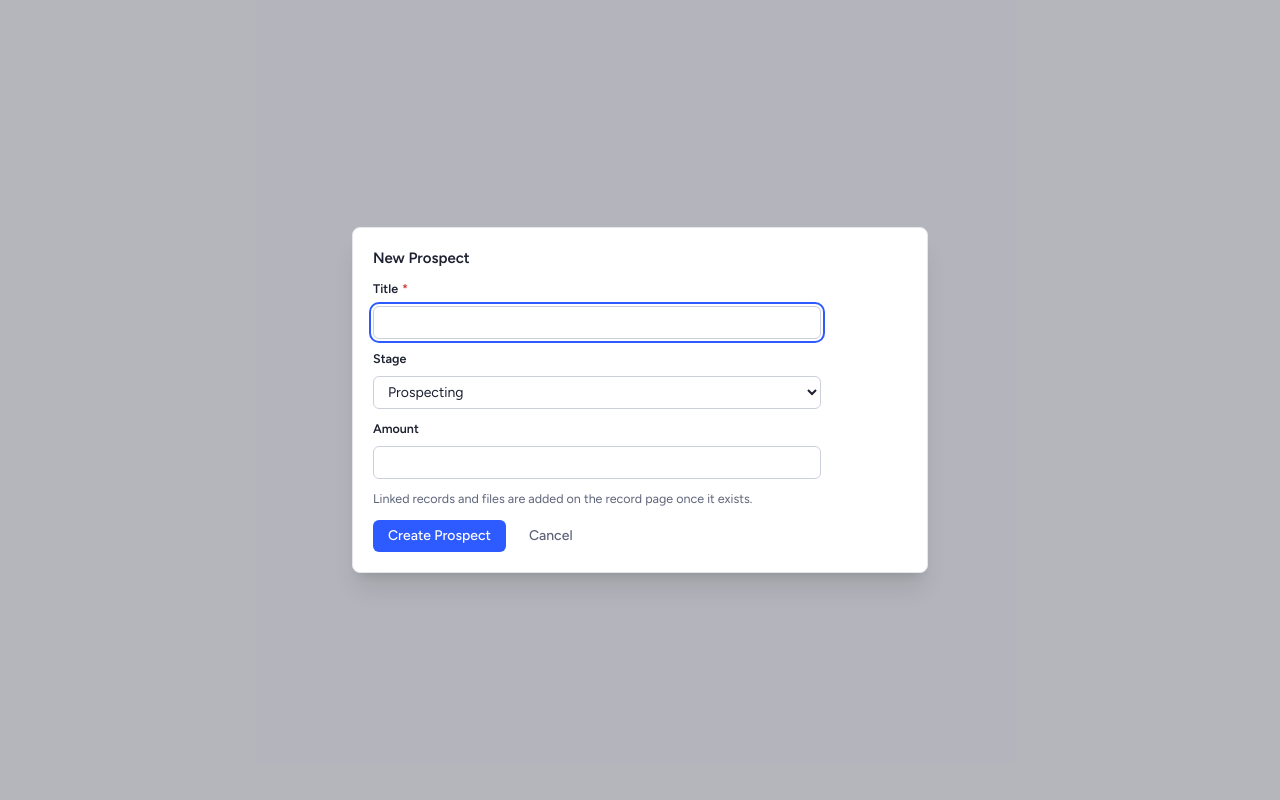
Test: NewRecordDialog: the required-field pre-flight › clears the complaint once the field is filled and the write goes out
Click the button "Create Prospect". click: point(439, 536)
box: [373,520,506,552]
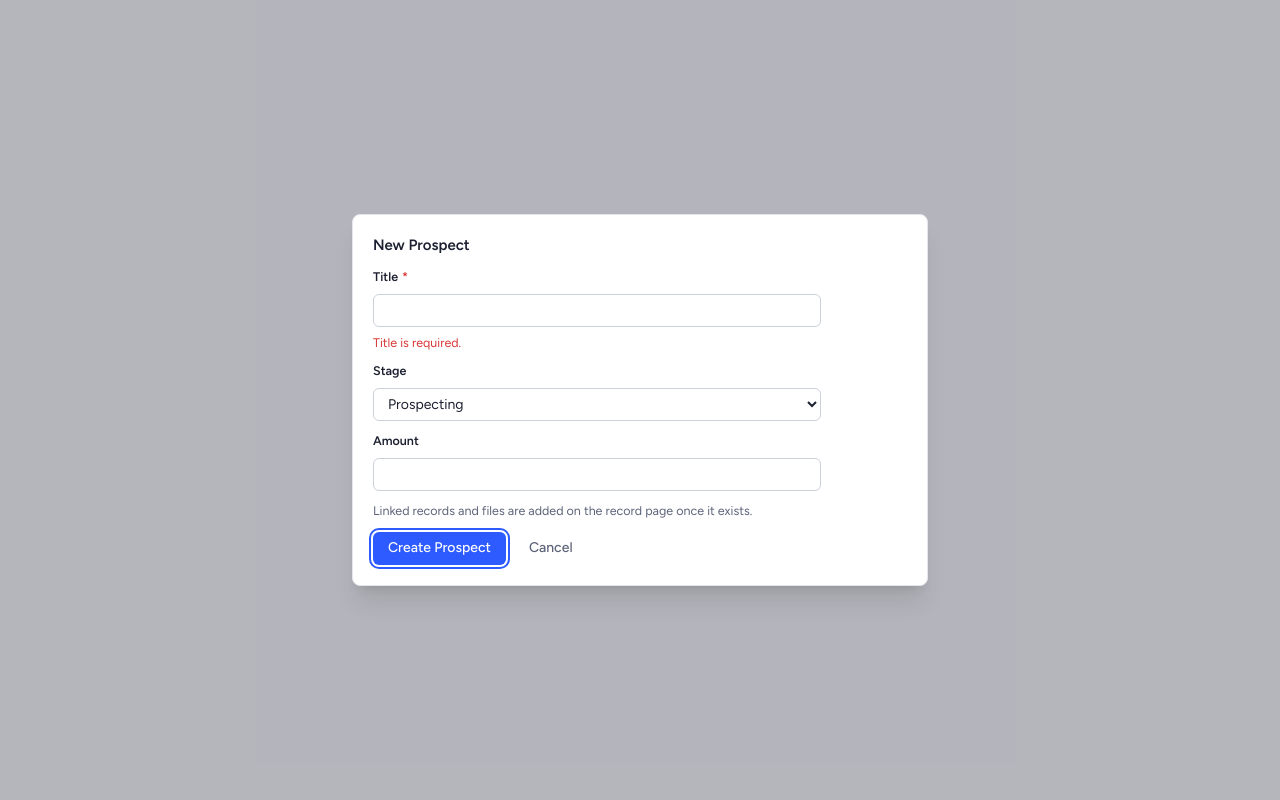
Expected: the message reads "Title is required.", [373,335,461,350]
Type "Acme renewal" into the field labelled "Title". click: point(597, 310)
box: [373,294,821,327]
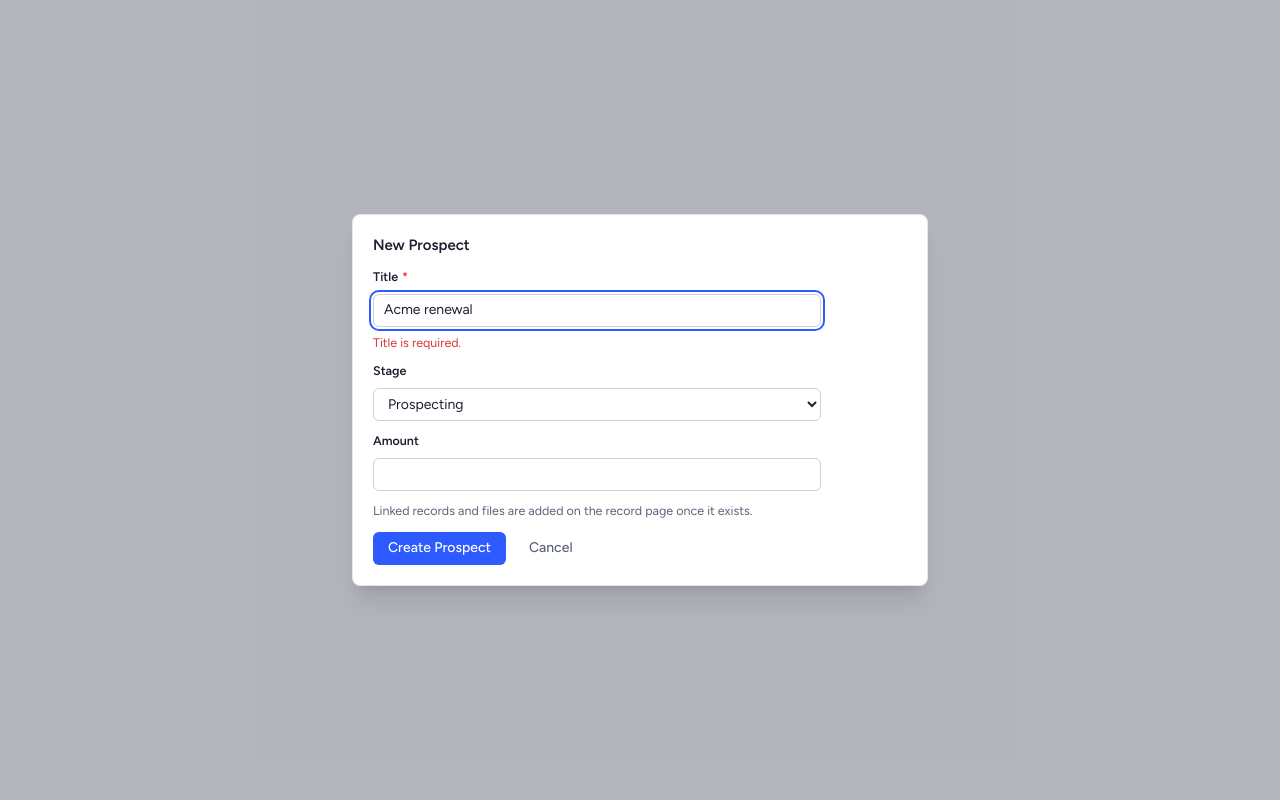
Click the button "Create Prospect". click: point(439, 548)
box: [373,532,506,565]
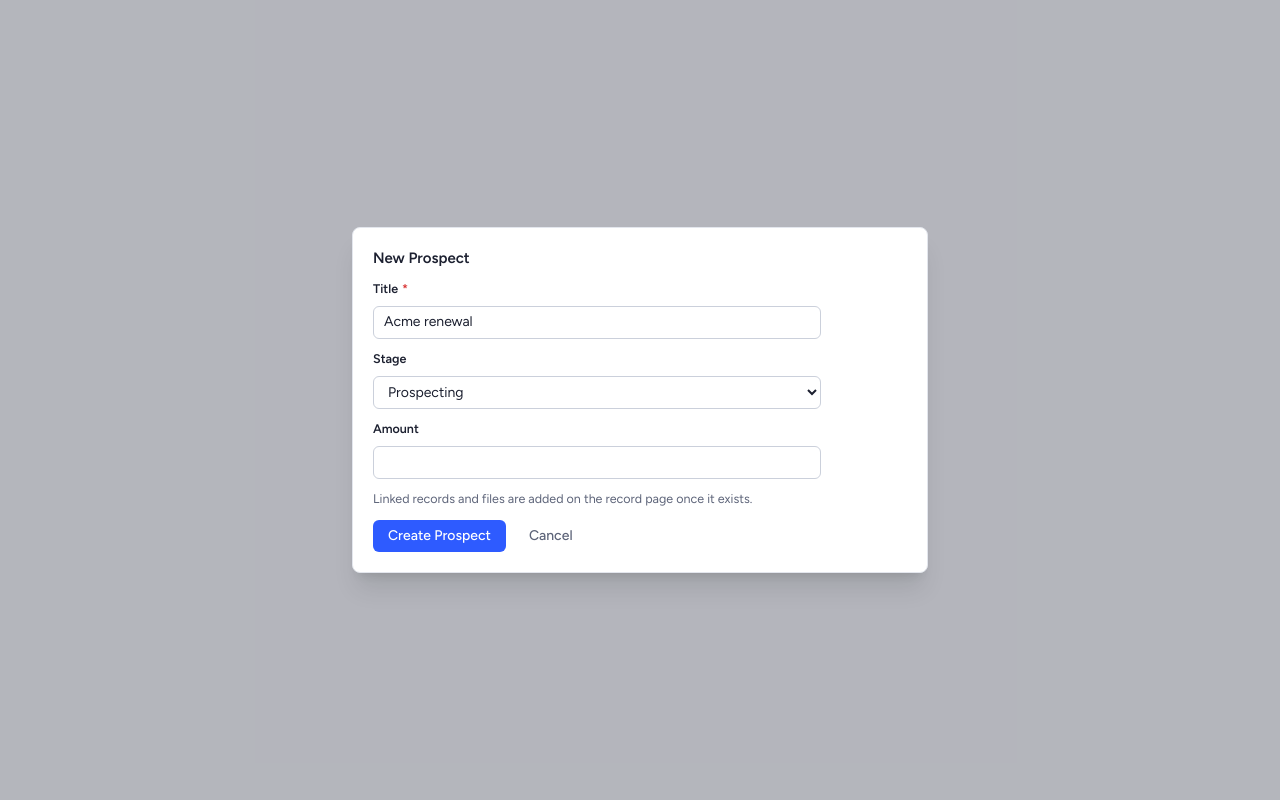
Expected: the message "Title is required." is gone
